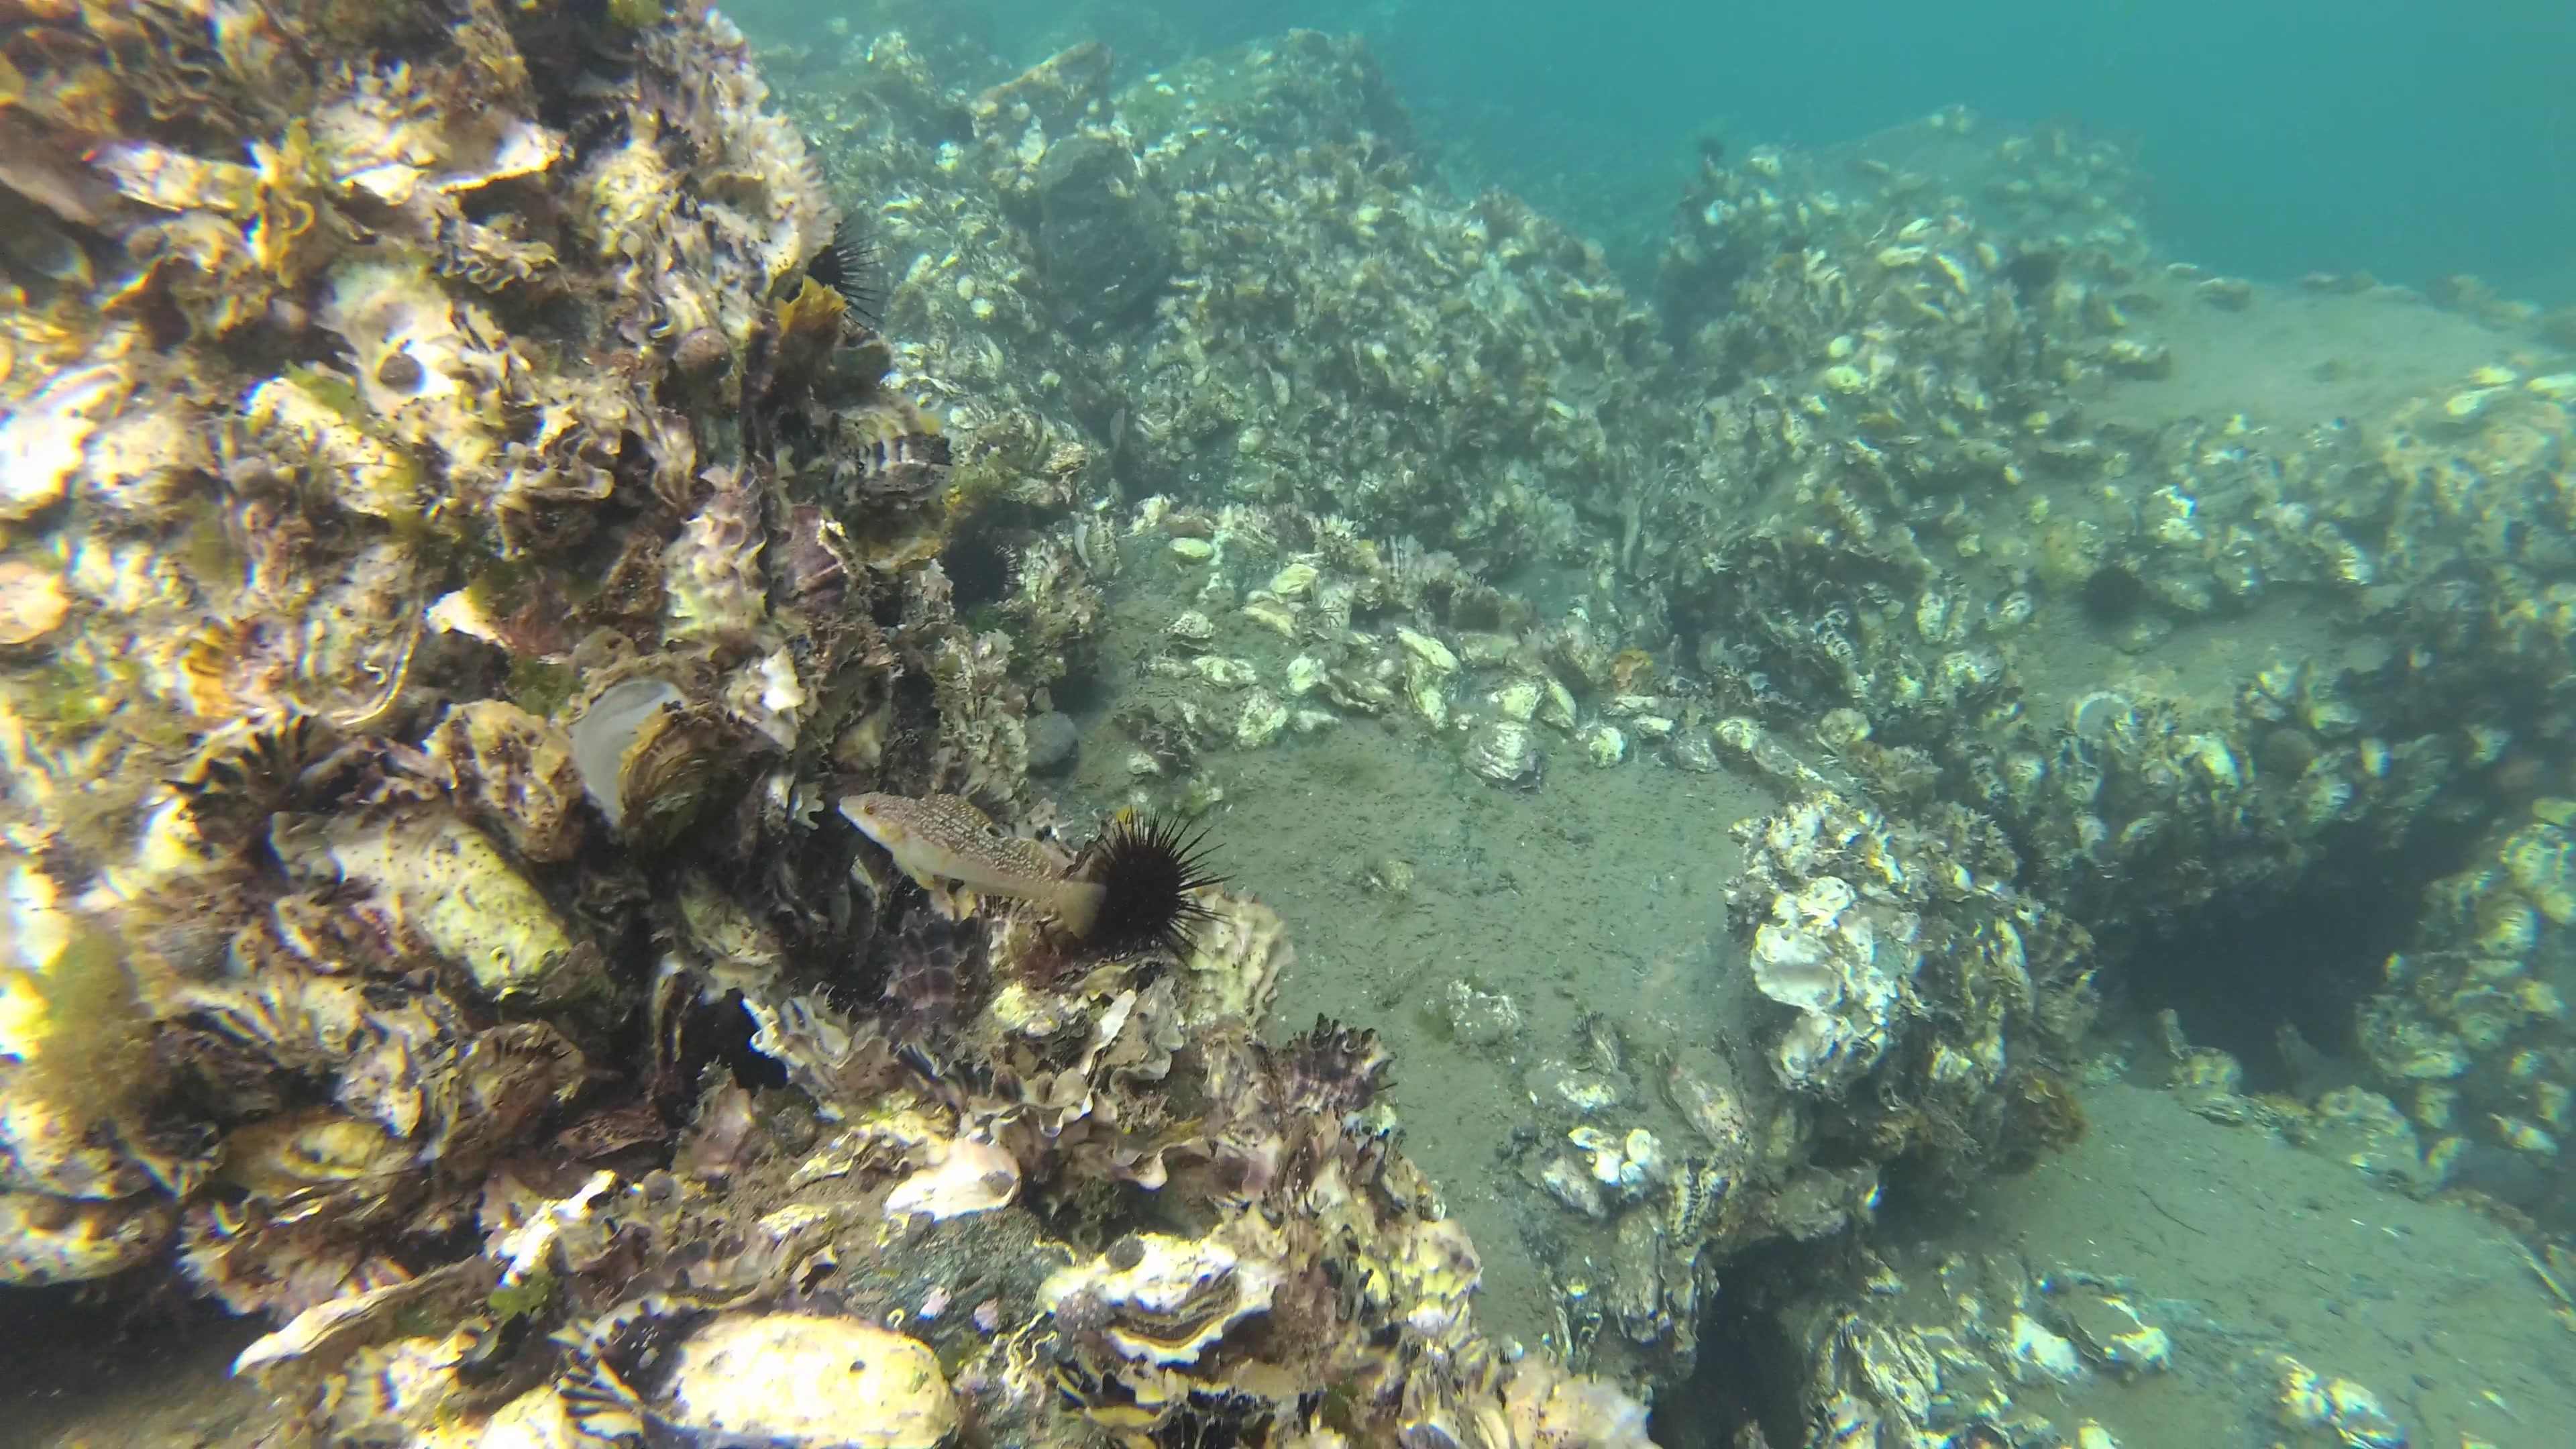echinus: (1072, 805, 1244, 971), (800, 221, 892, 341), (939, 527, 1030, 614), (2070, 550, 2153, 635)
